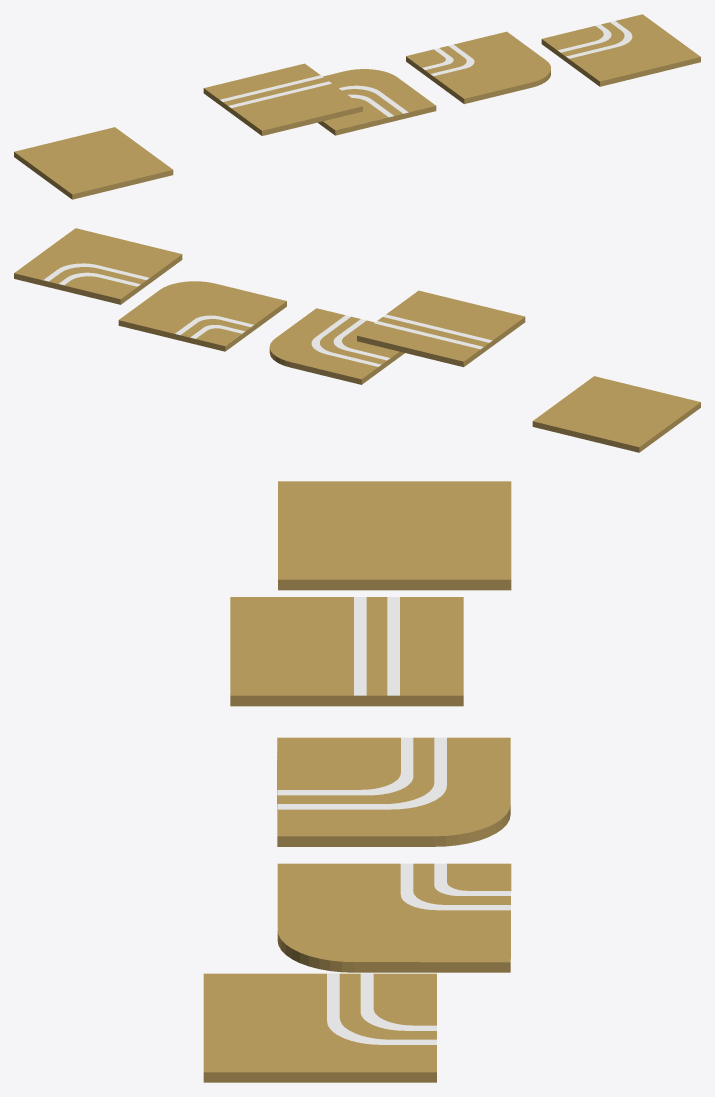
Rendered from NEW FIN TILES.fbx.
3 renders of one model, top to bottom at view 1: azimuth 30°, elevation 25°; view 2: azimuth 150°, elevation 25°; view 3: azimuth 270°, elevation 25°, orthographic. The views are drawn at different scales.
Visible parts, largest first — view 1: Plane.004, Plane.001, Plane, Plane.005, Plane.002; view 2: Plane.004, Plane, Plane.001, Plane.005, Plane.002; view 3: Plane.001, Plane.004, Plane, Plane.005, Plane.002.
Part boxes in pixels (x1,y1,x2,y2): Plane.004: (541, 14, 700, 86); Plane.001: (203, 63, 362, 135); Plane: (14, 127, 173, 199); Plane.005: (406, 31, 550, 103); Plane.002: (318, 69, 436, 135); Plane.004: (14, 228, 182, 304); Plane: (532, 376, 700, 452); Plane.001: (357, 290, 525, 367); Plane.005: (118, 281, 286, 351); Plane.002: (269, 308, 404, 384); Plane.001: (230, 597, 463, 706); Plane.004: (203, 973, 436, 1082); Plane: (278, 481, 511, 590); Plane.005: (277, 863, 511, 972); Plane.002: (277, 737, 510, 846).
Size of the model in its own units: 604 by 32.3 by 132.
